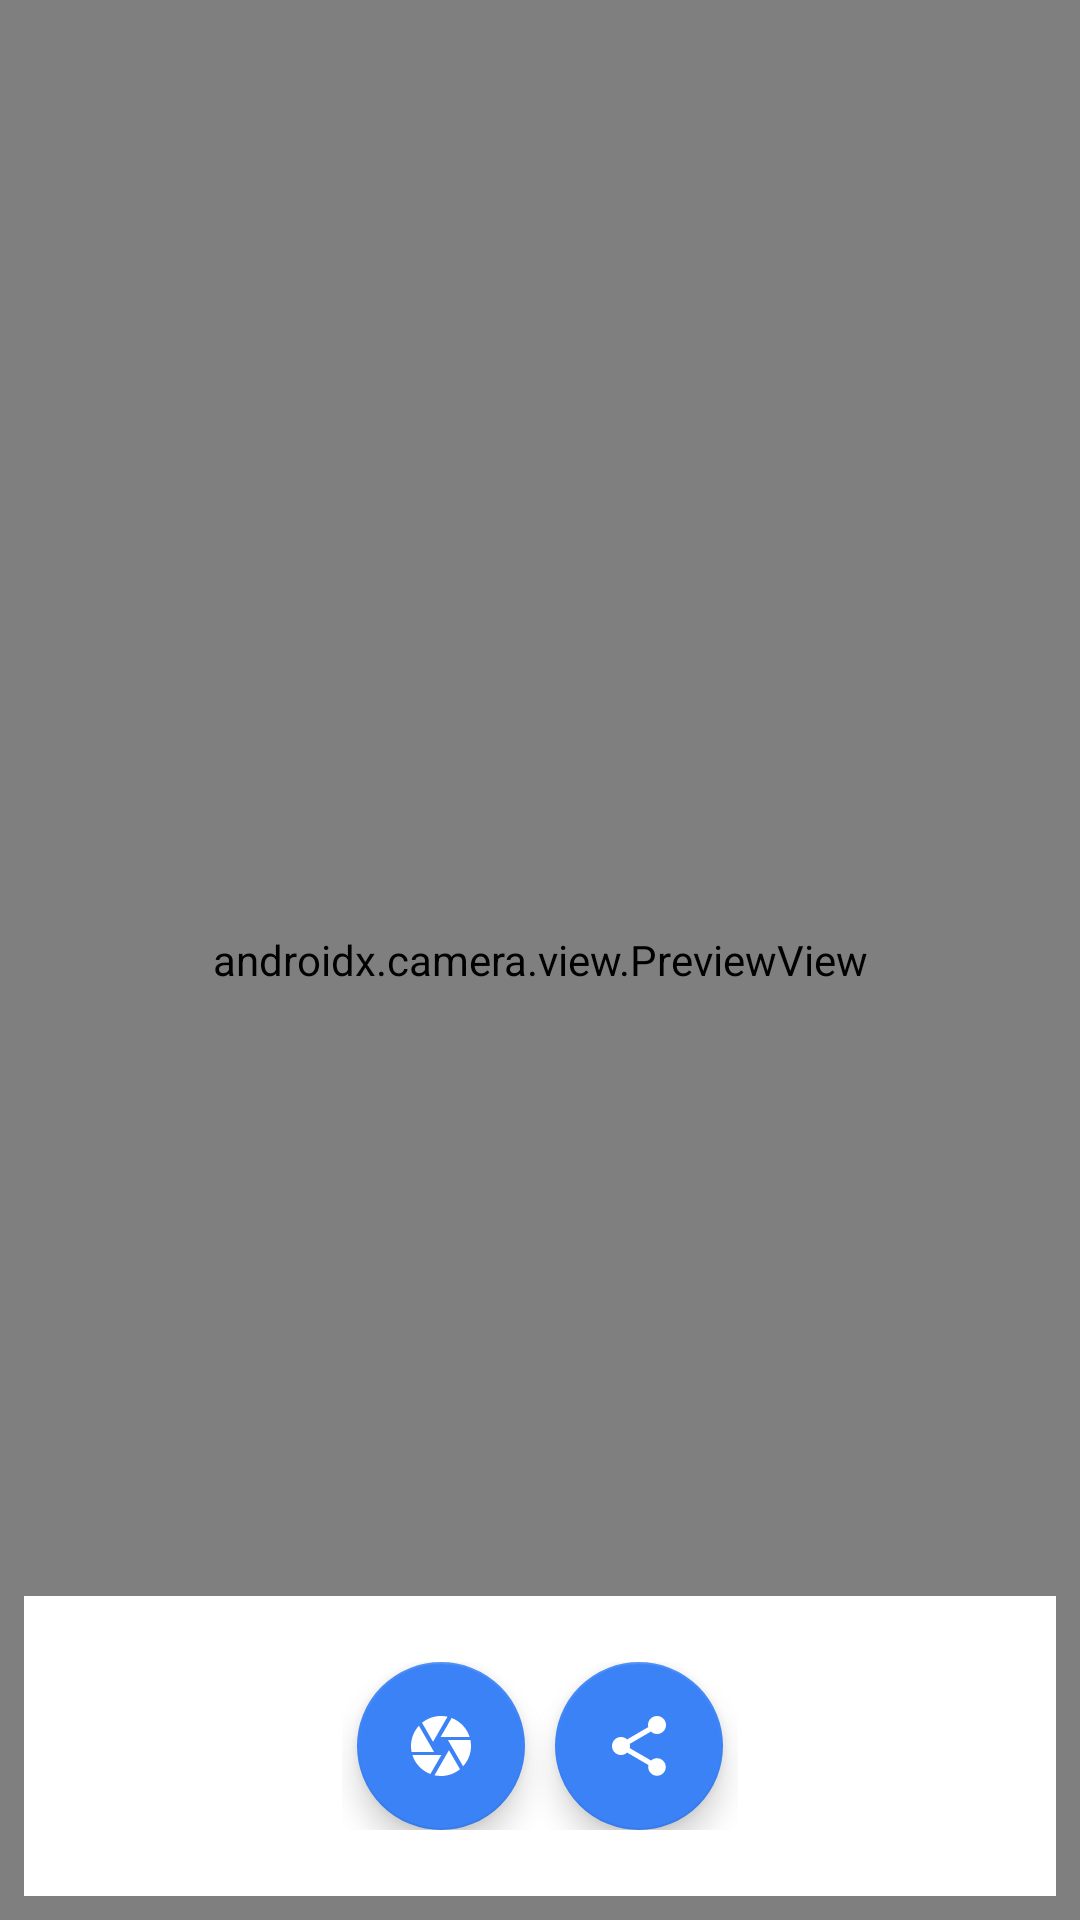

Icon click points for this 1080×1920 phone screenshot, format [x,y]:
share: [639,1746]
